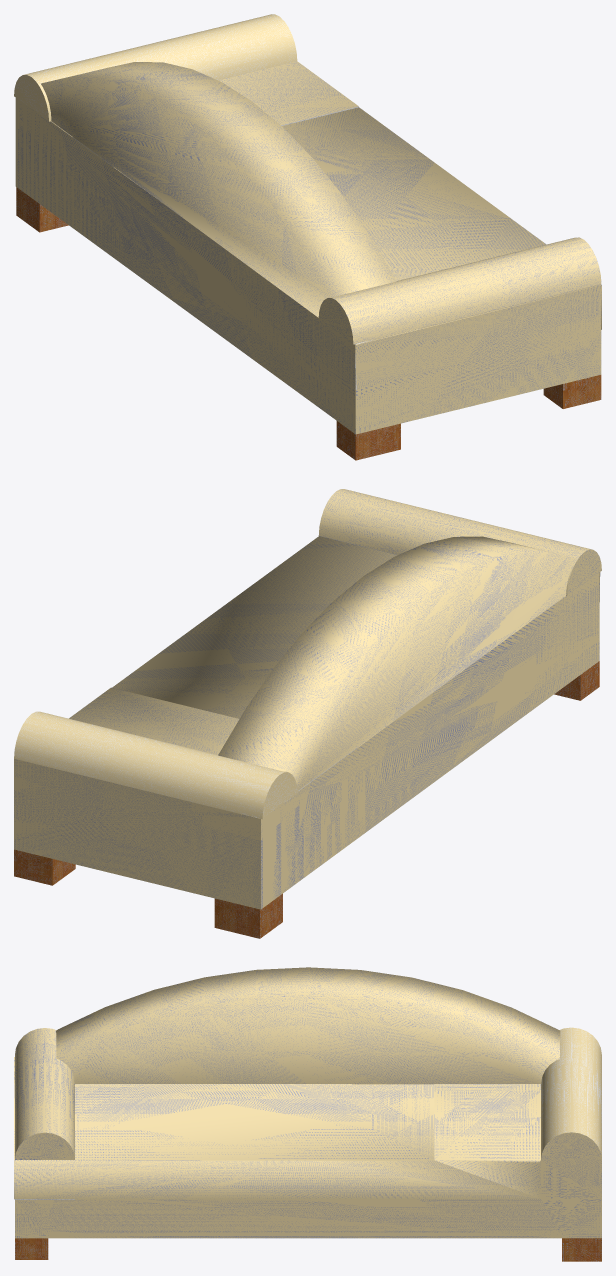
The picture shows the model from 3 angles, top to bottom: view 1: azimuth 30°, elevation 25°; view 2: azimuth 150°, elevation 25°; view 3: azimuth 270°, elevation 25°; orthographic projection. The views are drawn at different scales.
Parts seen in each view (by area): view 1: SketchUp (×4); view 2: SketchUp (×4); view 3: SketchUp (×3).
Part boxes in pixels (x1,y1,x2,y2): SketchUp (×4): [14, 14, 601, 460]; SketchUp (×4): [14, 489, 601, 938]; SketchUp (×3): [14, 967, 601, 1261].
Size of the model in its own units: 77.25 by 183 by 66.22.
Materials: 4 (1 with a texture image).
